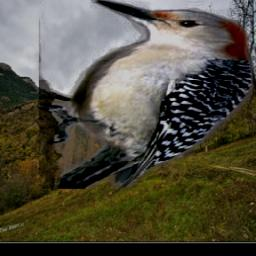Woodpecker: (40, 0, 254, 189)
